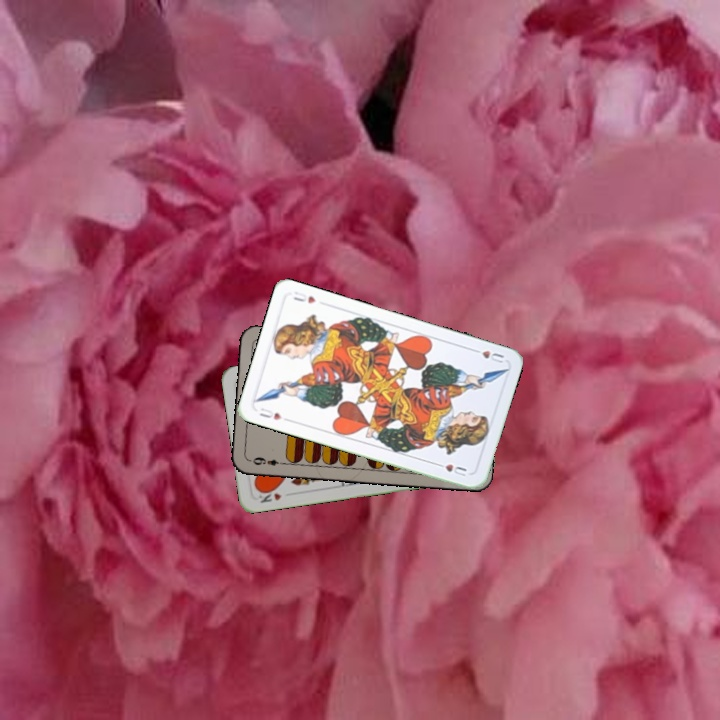E9: (249, 453, 287, 468)
HK: (255, 485, 284, 505)
HU: (468, 345, 507, 366), (255, 403, 292, 424)
